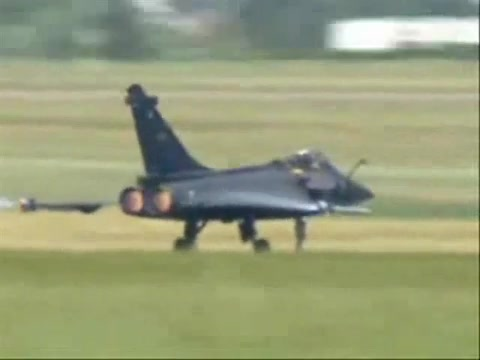aeroplane: (3, 83, 374, 254)
